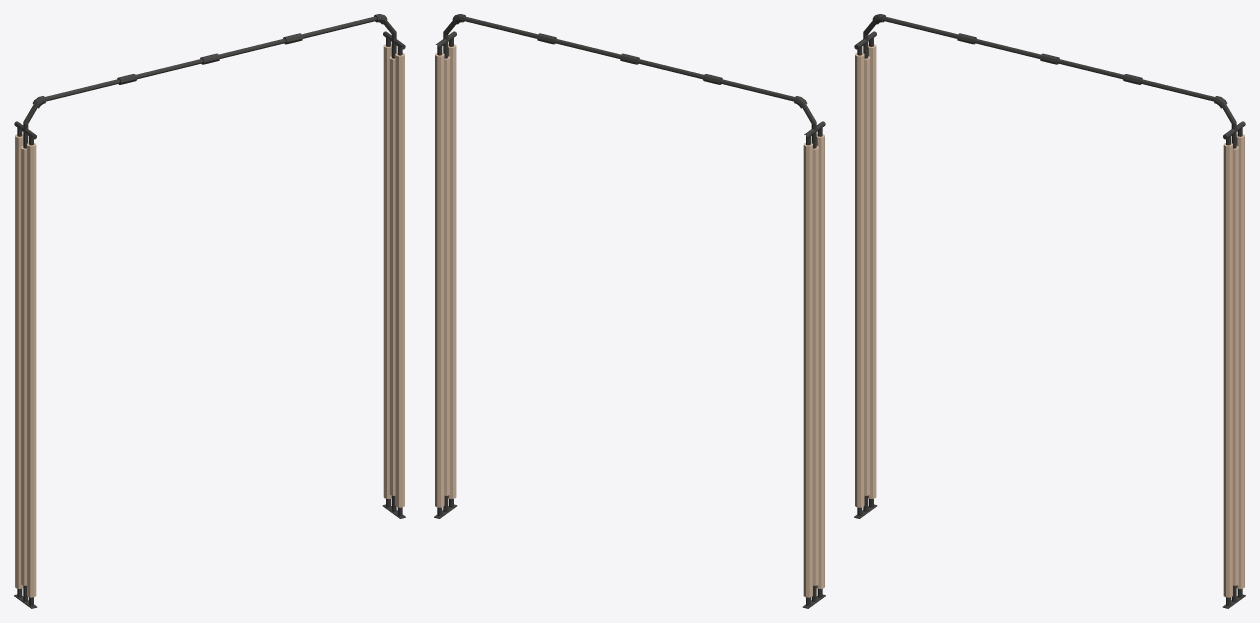
The model's file is SM_Ultraviolet_Lamp.gltf.
The picture shows the model from 3 angles, left to right: view 1: azimuth 30°, elevation 25°; view 2: azimuth 150°, elevation 25°; view 3: azimuth 330°, elevation 25°; orthographic projection.
Visible parts, largest first — view 1: SM_Ultraviolet_Lamp; view 2: SM_Ultraviolet_Lamp; view 3: SM_Ultraviolet_Lamp.
Boxes of the visible parts, x1,y1,x2,y2 form: SM_Ultraviolet_Lamp: (14,14,405,608); SM_Ultraviolet_Lamp: (434,14,825,608); SM_Ultraviolet_Lamp: (854,14,1245,608).
Size of the model in its own units: 1.84 by 2.34 by 0.156.
